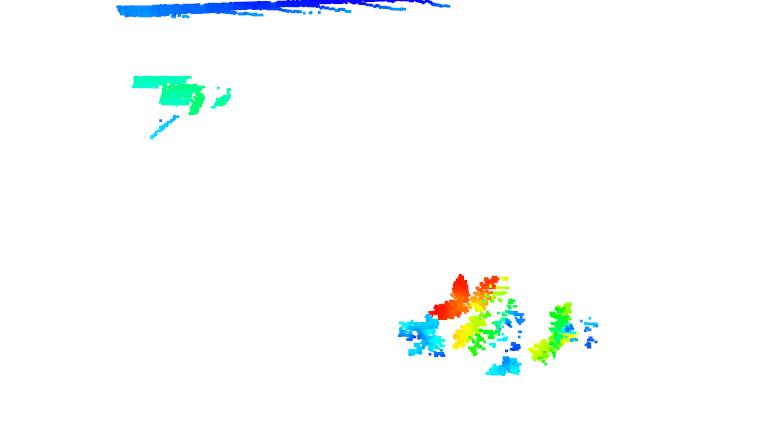chickpea: (423, 272, 524, 377), (530, 298, 596, 362), (397, 314, 448, 359)
